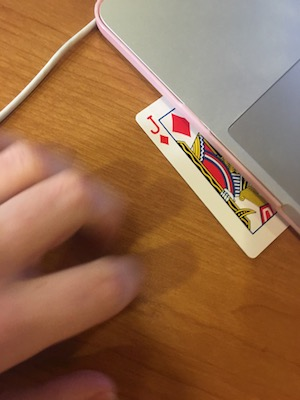JackOfDiamonds: (130, 91, 291, 268)
